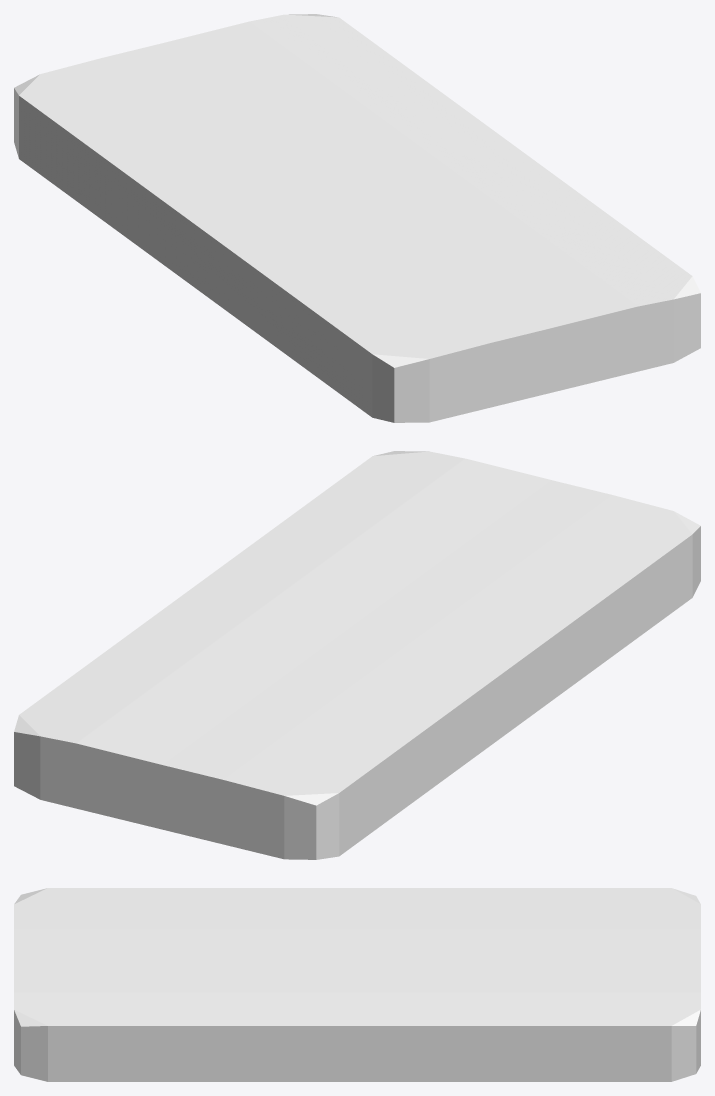
Rendered from bedmattress01.gltf.
The picture shows the model from 3 angles, top to bottom: view 1: azimuth 30°, elevation 25°; view 2: azimuth 150°, elevation 25°; view 3: azimuth 270°, elevation 25°; orthographic projection. The views are drawn at different scales.
Visible parts, largest first — view 1: Cube; view 2: Cube; view 3: Cube.
Boxes of the visible parts, left/top/right/bottom form: Cube: left=14, top=14, right=700, bottom=422; Cube: left=14, top=451, right=700, bottom=859; Cube: left=14, top=888, right=700, bottom=1081.
Size of the model in its own units: 0.95 by 0.1847 by 2.
Materials: 1 (1 with a texture image).
